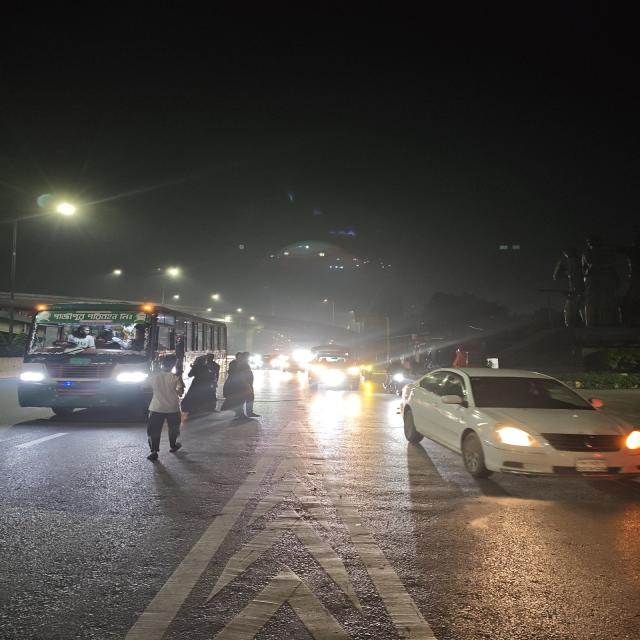bus: (16, 297, 227, 421)
car: (397, 362, 640, 486), (305, 345, 364, 392), (260, 352, 283, 372), (281, 358, 303, 375)
pedestrian: (140, 358, 196, 462), (212, 349, 261, 423)
